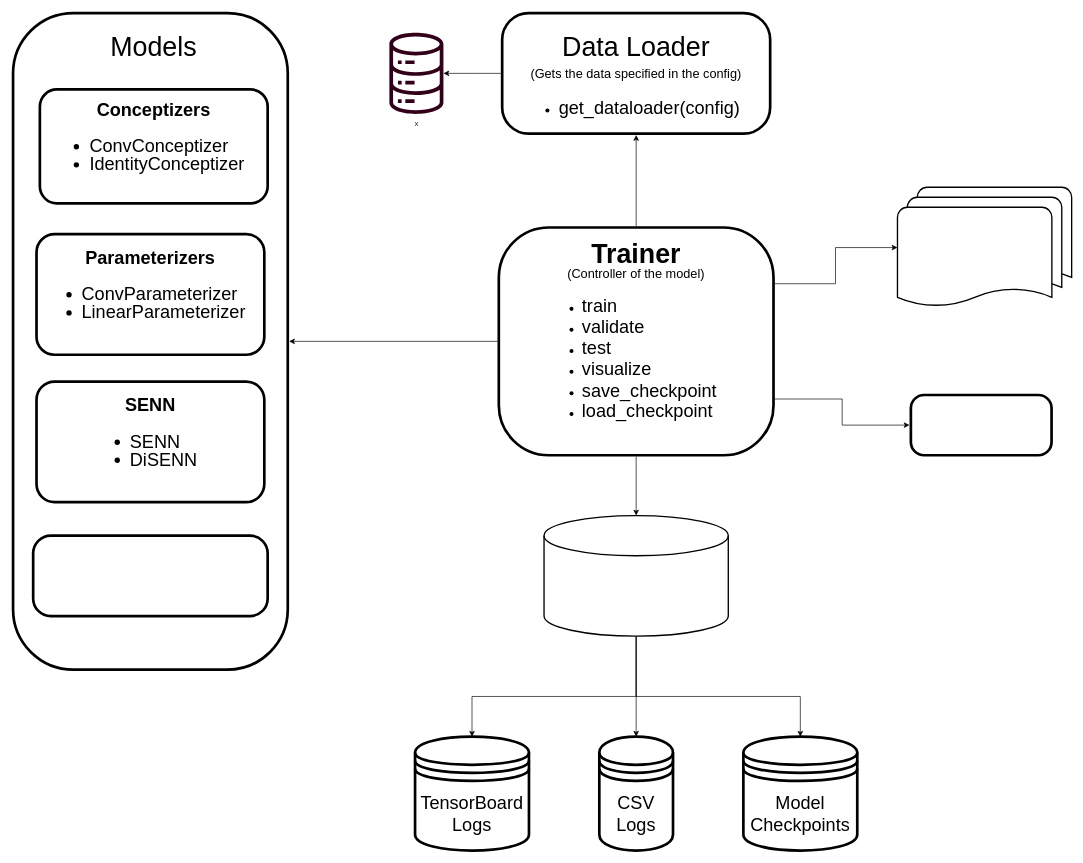
Image size: 1083x863. Some labels were removed from this diagram. Here are the shapes that lost their labels. From the top down, the centre of each, then its label:
At pixel 984 247: "Config (Experimental parameters)".
At pixel 981 424: "Utils".
At pixel 150 575: "Losses".
At pixel 636 575: "Experimental Results".
